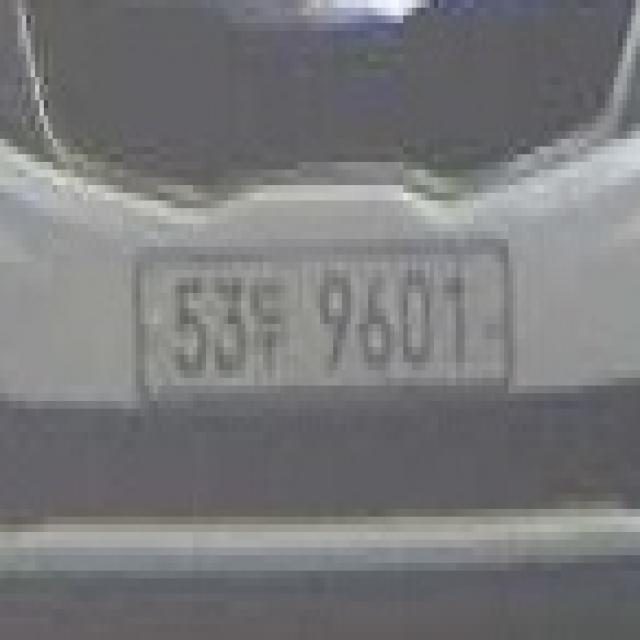0: (399, 254, 429, 394)
1: (438, 262, 482, 393)
3: (206, 270, 250, 393)
5: (167, 270, 210, 385)
6: (355, 262, 399, 386)
9: (307, 247, 355, 393)
du: (250, 262, 294, 378)
license_plate: (123, 231, 517, 424)
